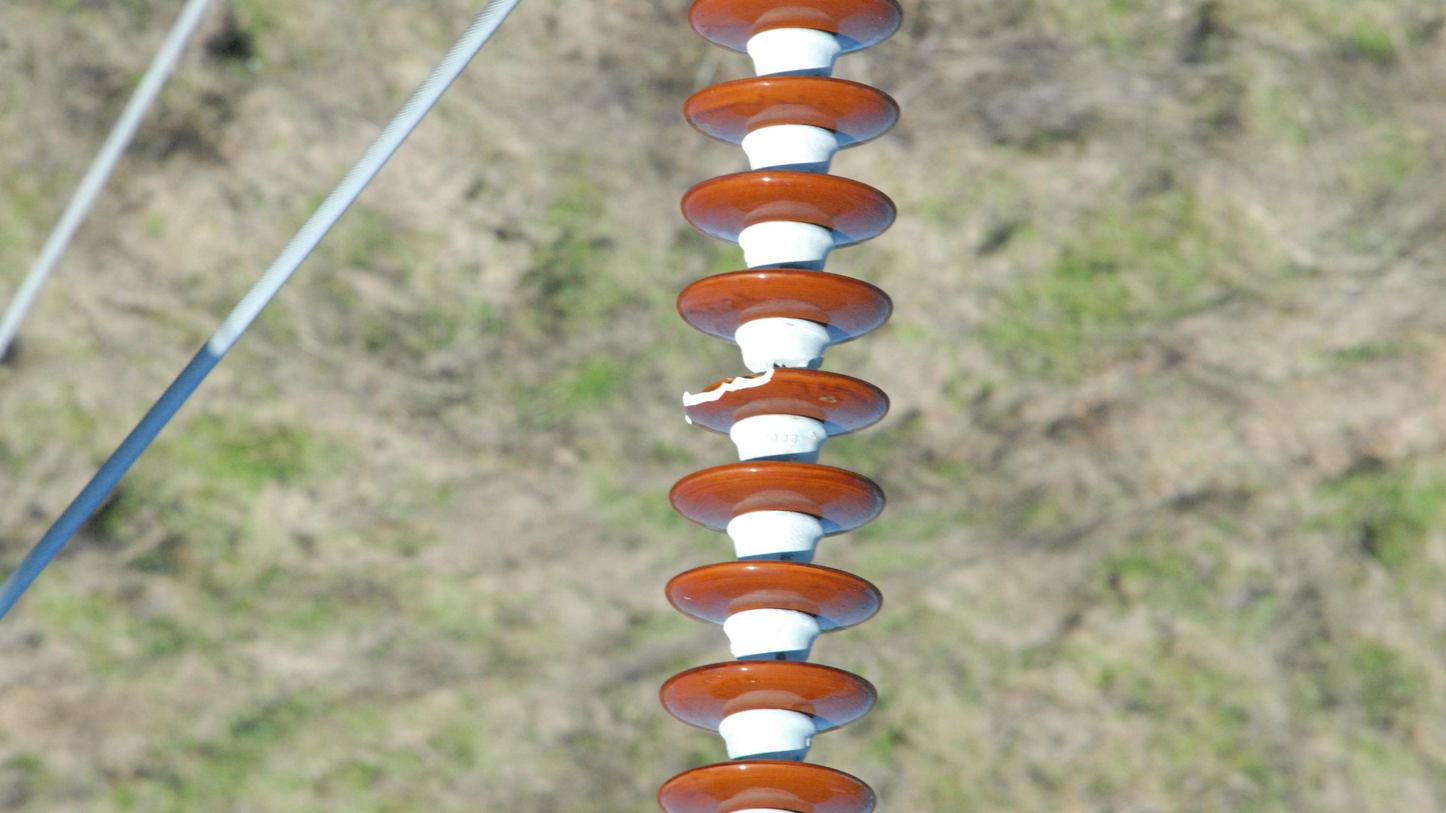insulator: (647, 1, 909, 813)
insulator_breakage: (676, 361, 782, 431)
